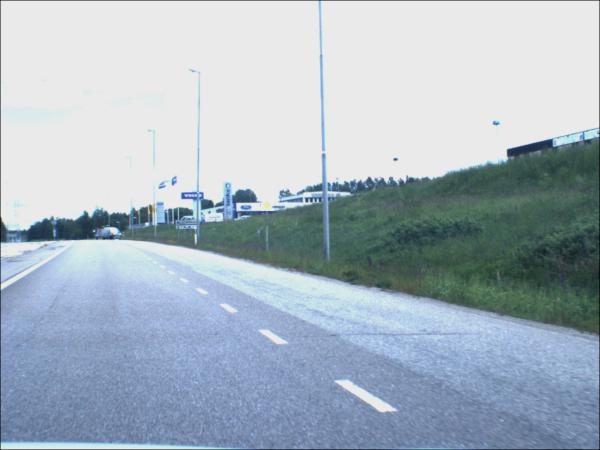PRIORITY_ROAD: (262, 201, 276, 213)
